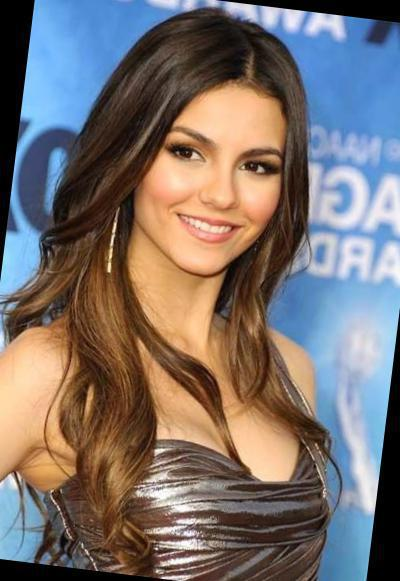Sober: (148, 94, 283, 262)
